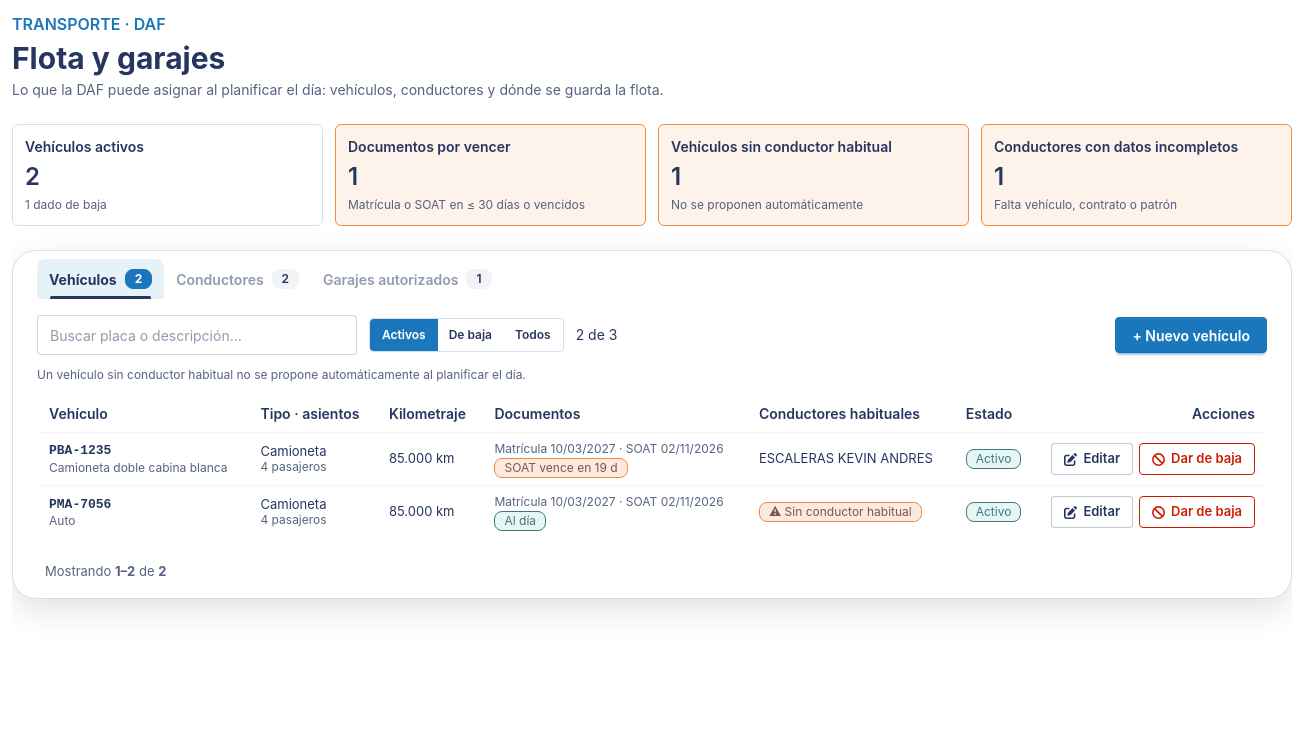
Test: pestañas y filtro › el filtro arranca en Activos: lo dado de baja no se ve hasta pedirlo
Expected: the text "PBA-1235" is shown, x1=49 y1=443 x2=111 y2=458
Expected: the text "ABM-999" is not shown
Click the button "De baja".
click(470, 335)  # box x1=437 y1=319 x2=504 y2=351
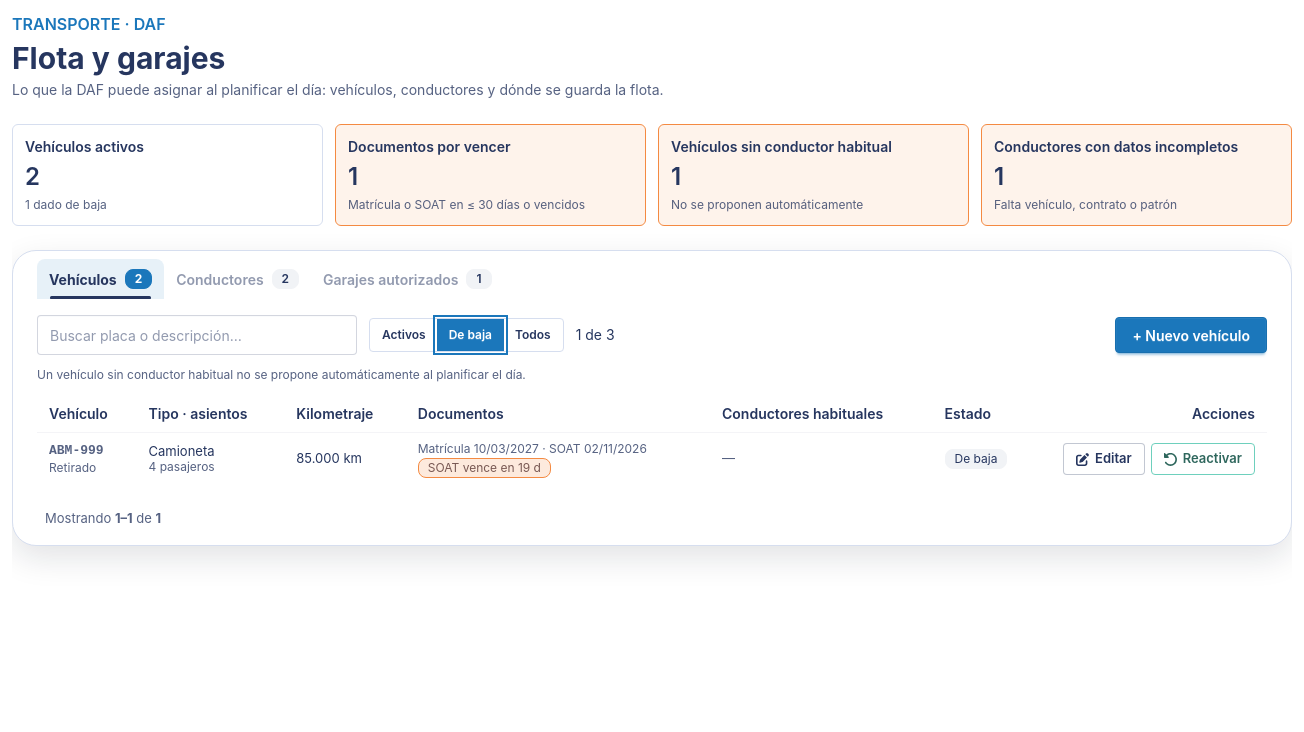
Now the text "ABM-999" is shown, box x1=49 y1=443 x2=104 y2=458
